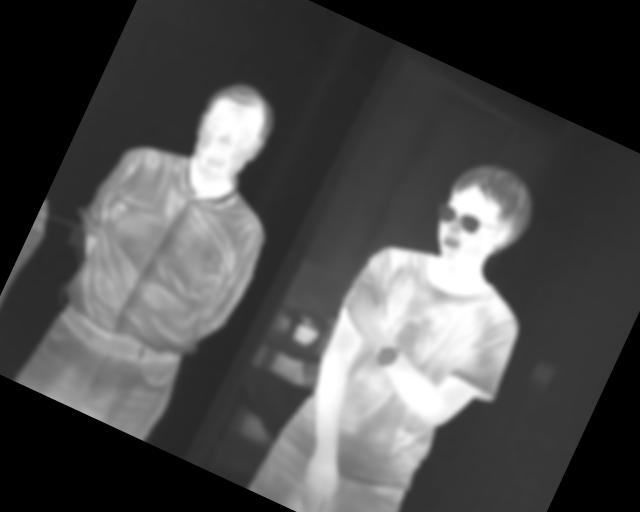face: (420, 149, 546, 286), (175, 69, 285, 196)
